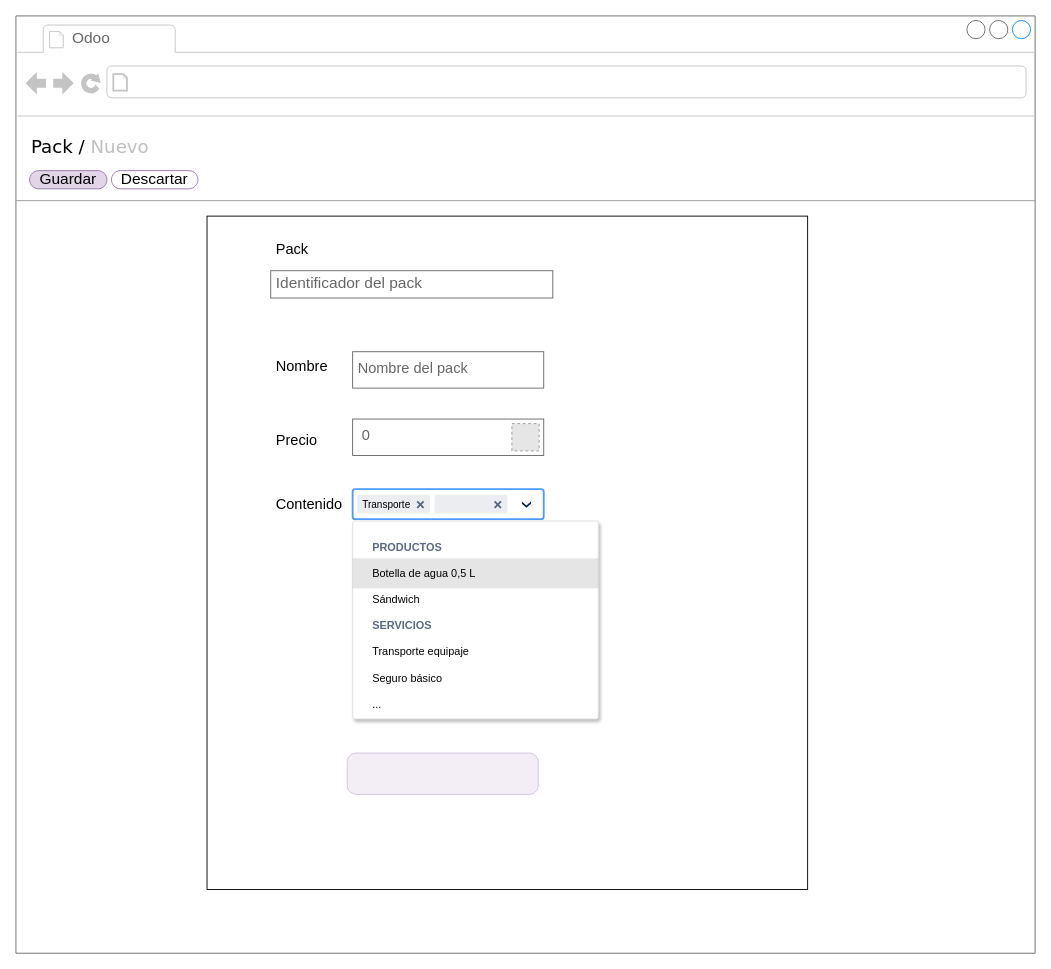
Image size: 1051x969. Some labels were removed from this diagram. Grey dashed boxes stand in for pictures. The centre of each missing label's shape, as x and y in pixels:
Crear Pack: (442,773)
localhost:8069/pack/nuevo: (247,82)
Seguro: (470,504)
